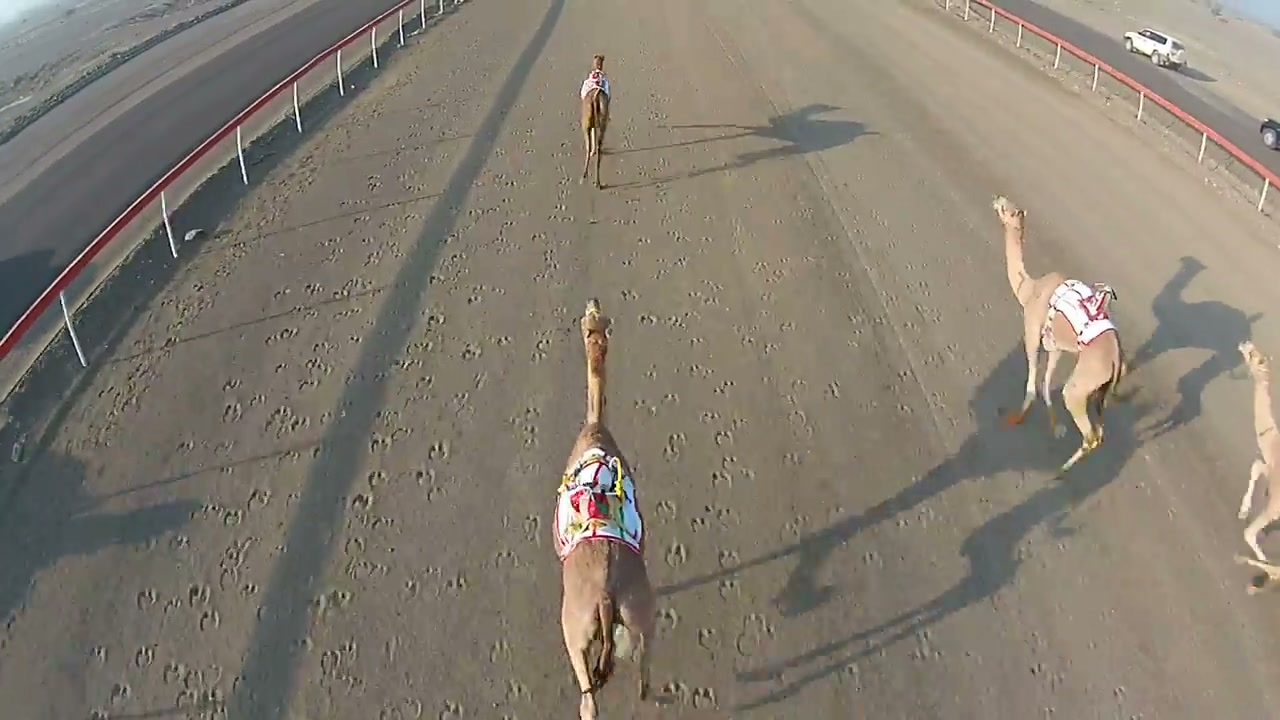animal_footprint: (68, 173, 566, 697), (571, 133, 766, 711)
